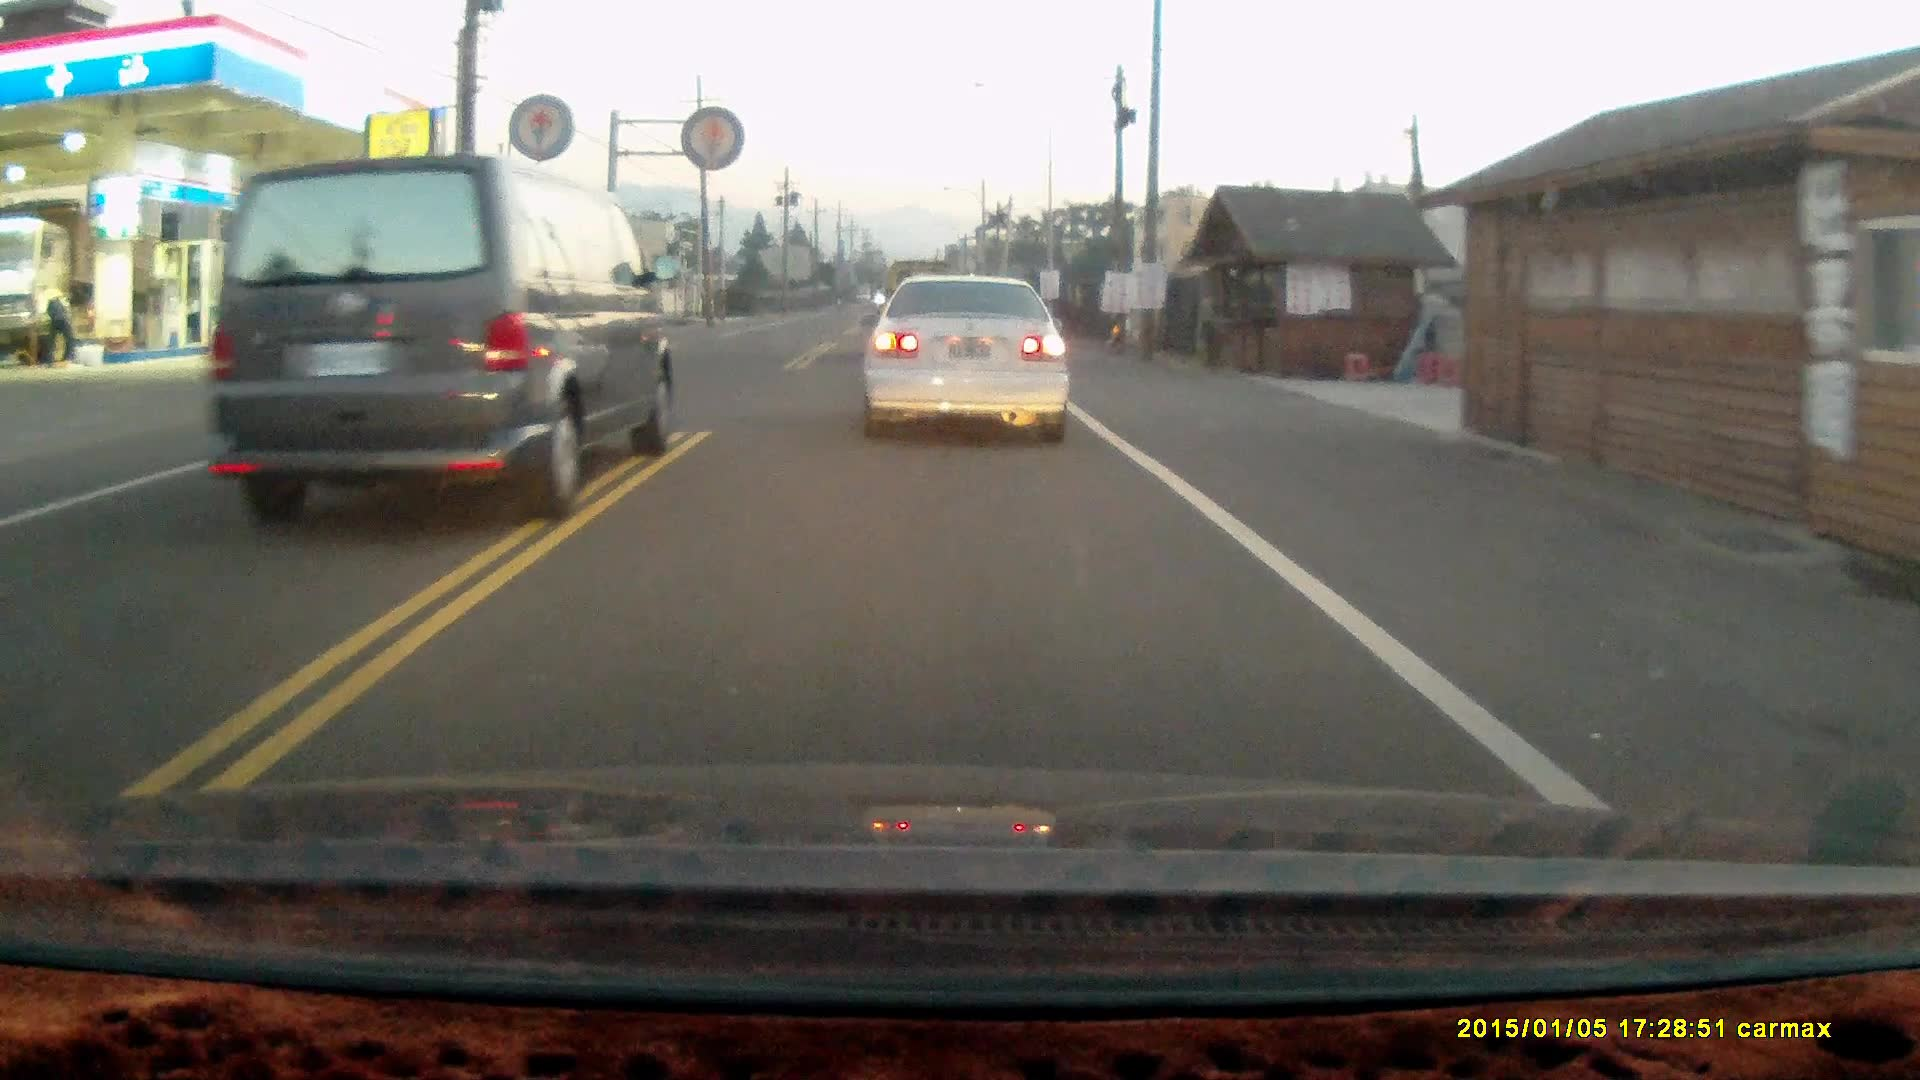pedestrian: (41, 281, 77, 369)
vehicle: (207, 158, 675, 539), (863, 279, 1072, 456), (1, 200, 142, 368)
